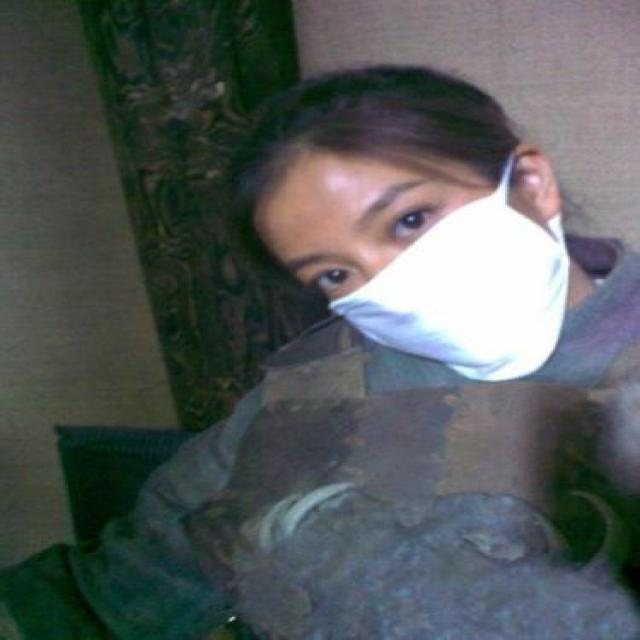mask: (265, 139, 517, 393)
